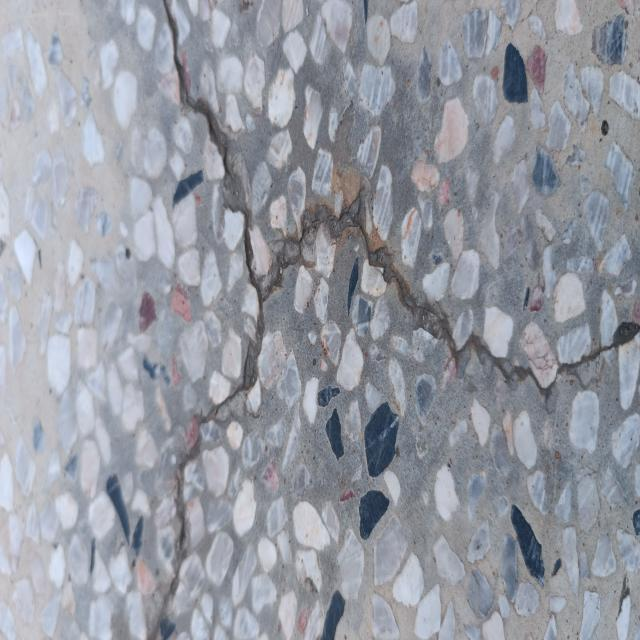branched cracks: (163, 0, 639, 611)
